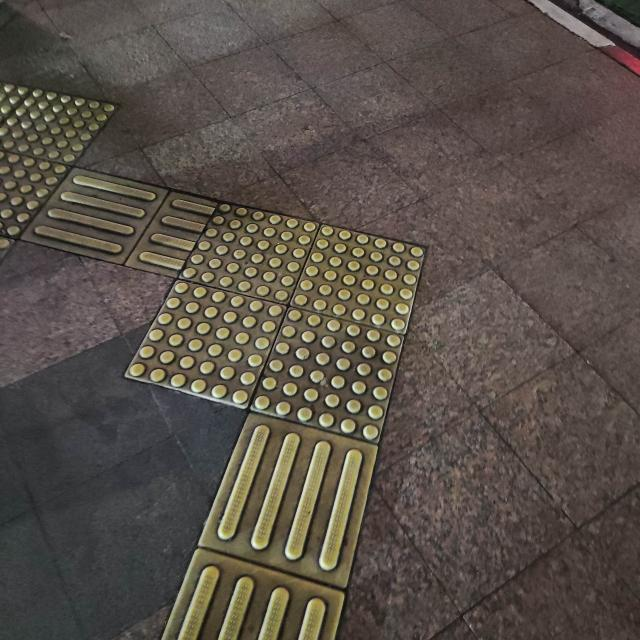kiri: (75, 173, 437, 534)
